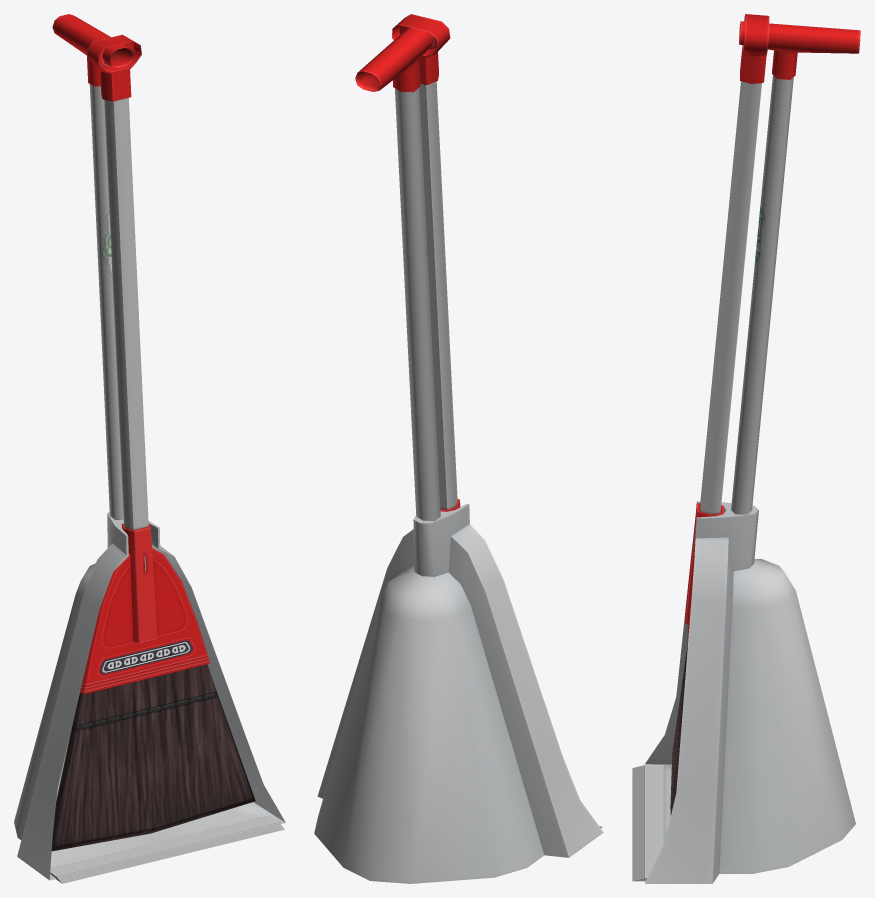
Rendered from set_broom_dustpan.fbx.
3 renders of one model, left to right at view 1: azimuth 30°, elevation 25°; view 2: azimuth 150°, elevation 25°; view 3: azimuth 270°, elevation 25°, orthographic. The views are drawn at different scales.
Parts seen in each view (by area): view 1: broom, dustpan; view 2: dustpan, broom; view 3: dustpan, broom.
Part boxes in pixels (x1,y1,x2,y2): broom: (51,34,255,851); dustpan: (14,14,285,883); dustpan: (314,27,603,883); broom: (392,14,460,511); dustpan: (632,21,860,883); broom: (670,14,769,815).
Size of the model in its own units: 25.87 by 80.81 by 20.79.
